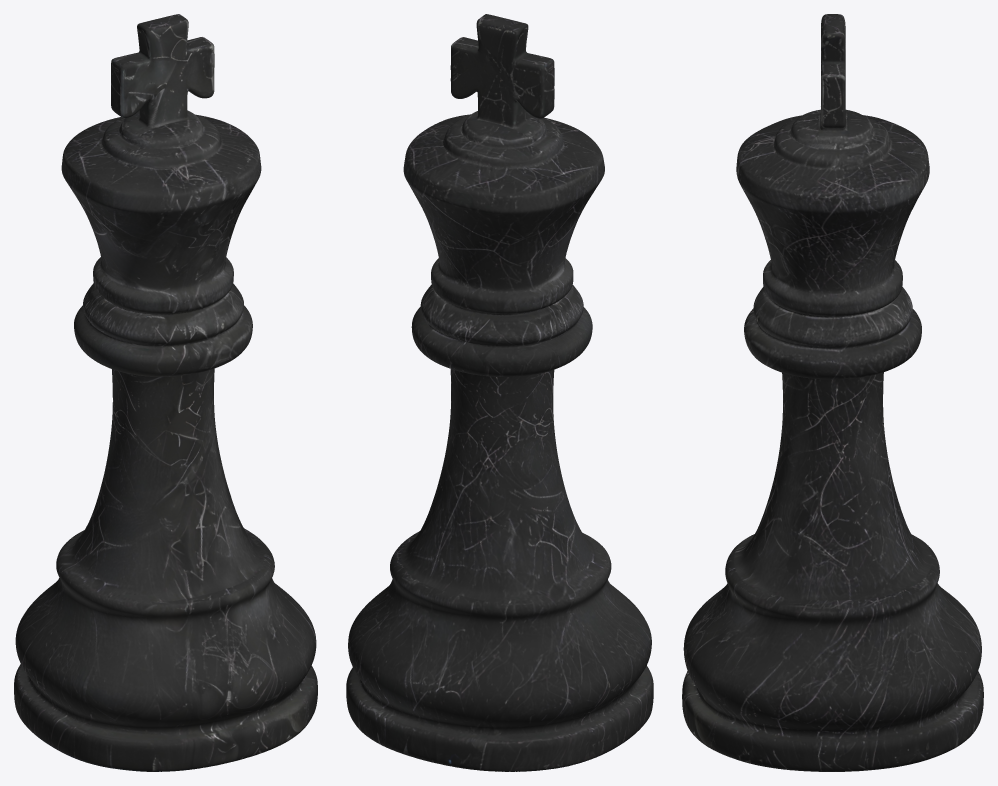
The model's file is king.glb.
3 views of the same model, side by side, from view 1: azimuth 30°, elevation 25°; view 2: azimuth 150°, elevation 25°; view 3: azimuth 270°, elevation 25° (orthographic).
Parts seen in each view (by area): view 1: tripo_node_b3f39cea-e1e5-4edf-9cd6-2c5714160f37; view 2: tripo_node_b3f39cea-e1e5-4edf-9cd6-2c5714160f37; view 3: tripo_node_b3f39cea-e1e5-4edf-9cd6-2c5714160f37.
Part boxes in pixels (x1,y1,x2,y2): tripo_node_b3f39cea-e1e5-4edf-9cd6-2c5714160f37: (14, 14, 317, 771); tripo_node_b3f39cea-e1e5-4edf-9cd6-2c5714160f37: (346, 14, 653, 771); tripo_node_b3f39cea-e1e5-4edf-9cd6-2c5714160f37: (682, 14, 983, 771).
Bounding box in the file's own units: 0.3908 × 1 × 0.3953.
1 material, 1 textured.
